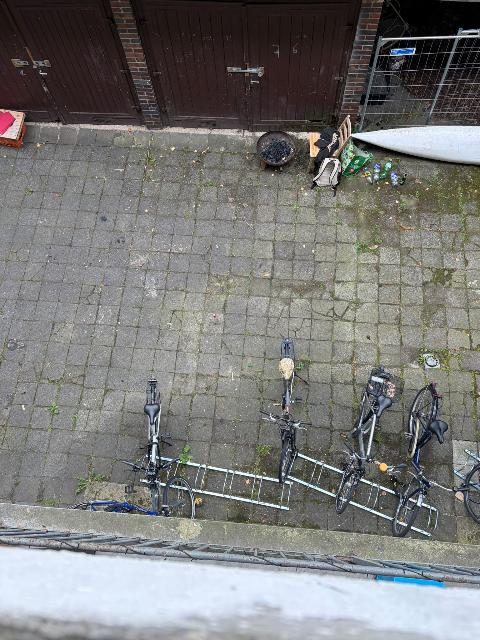glass_bottle: (212, 314, 219, 325)
